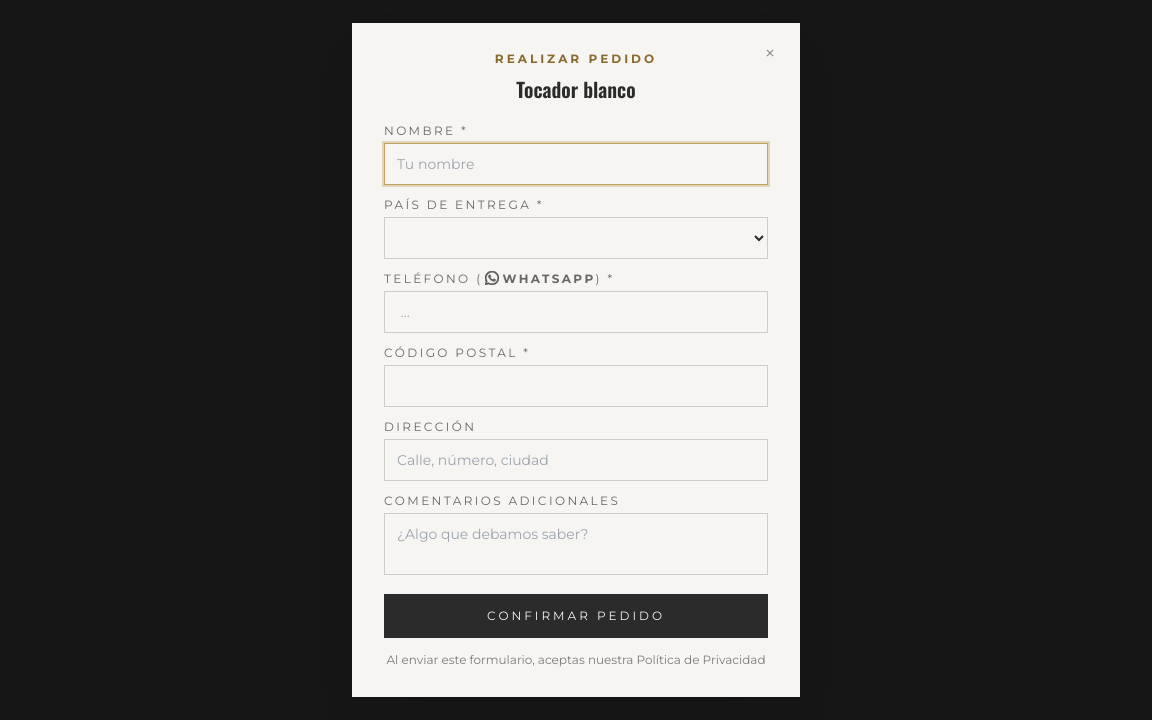
Test: OrderModal — Google Shopping test orders › shows Storebot the success screen but sends no Lead anywhere
This screenshot has width=1152, height=720.
Type "Lucía Pérez" into the field labelled "Nombre *". click: (576, 164)
box: [384, 143, 768, 185]
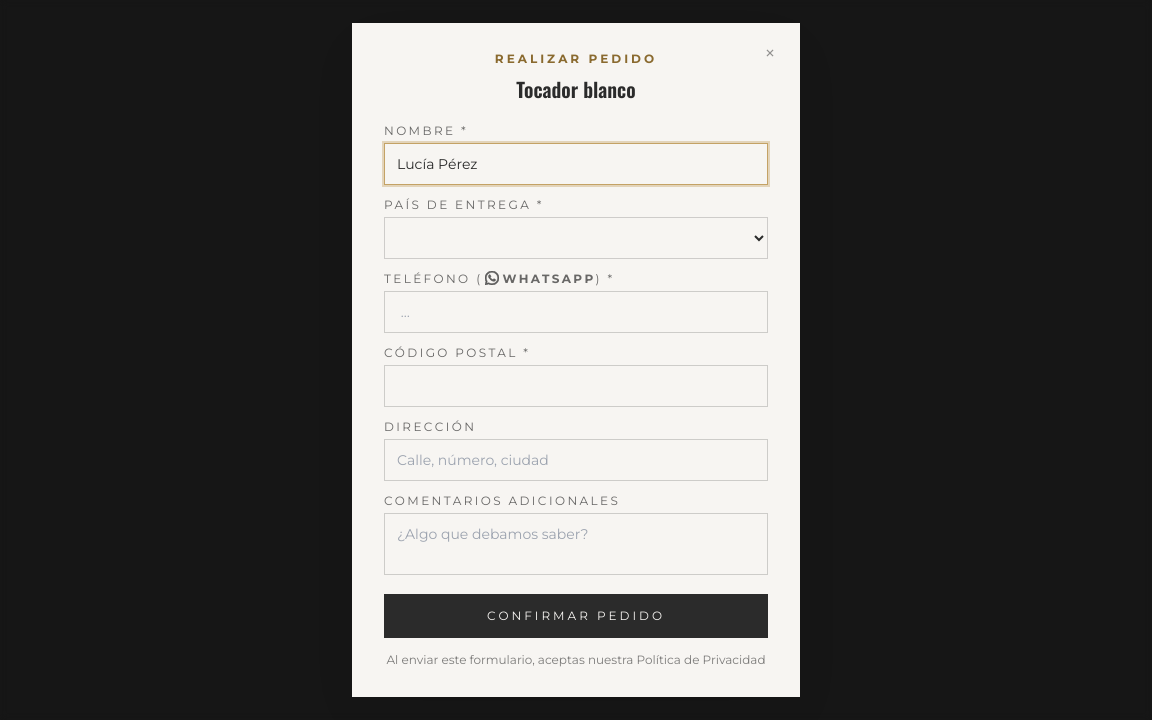
Type "612345678" into the field labelled "Teléfono ( WhatsApp) *". click: (576, 312)
box: [384, 291, 768, 333]
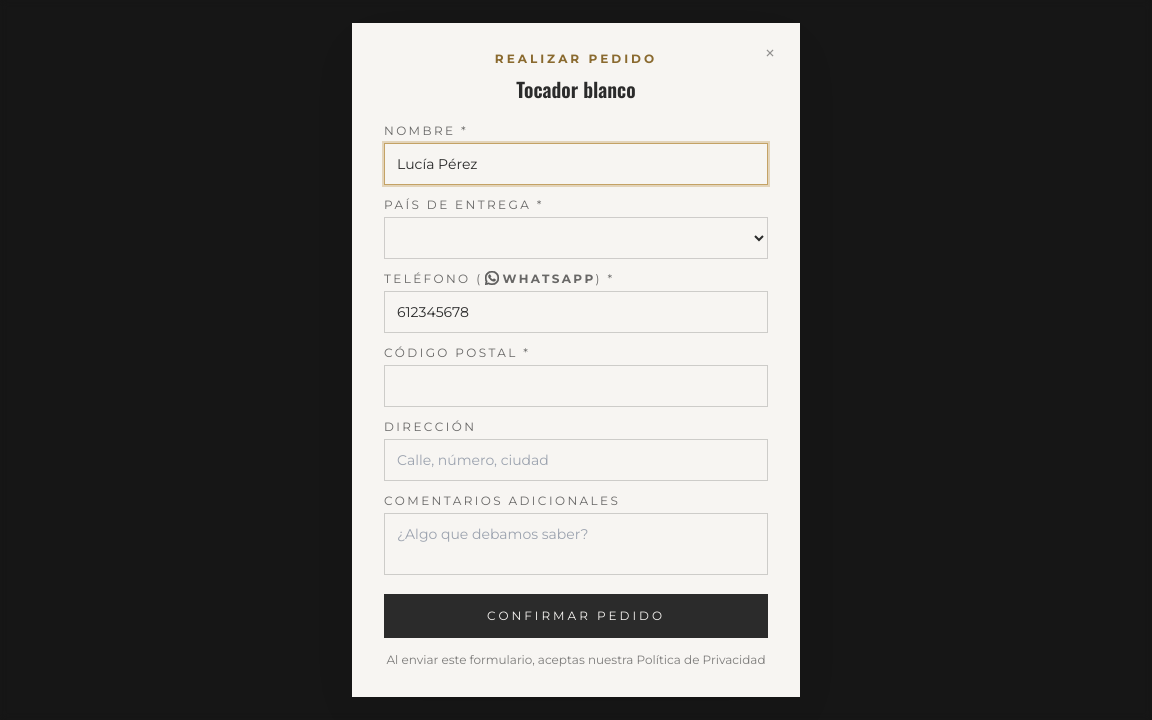
Type "28001" into the field labelled "Código Postal *". click: (576, 386)
box: [384, 365, 768, 407]
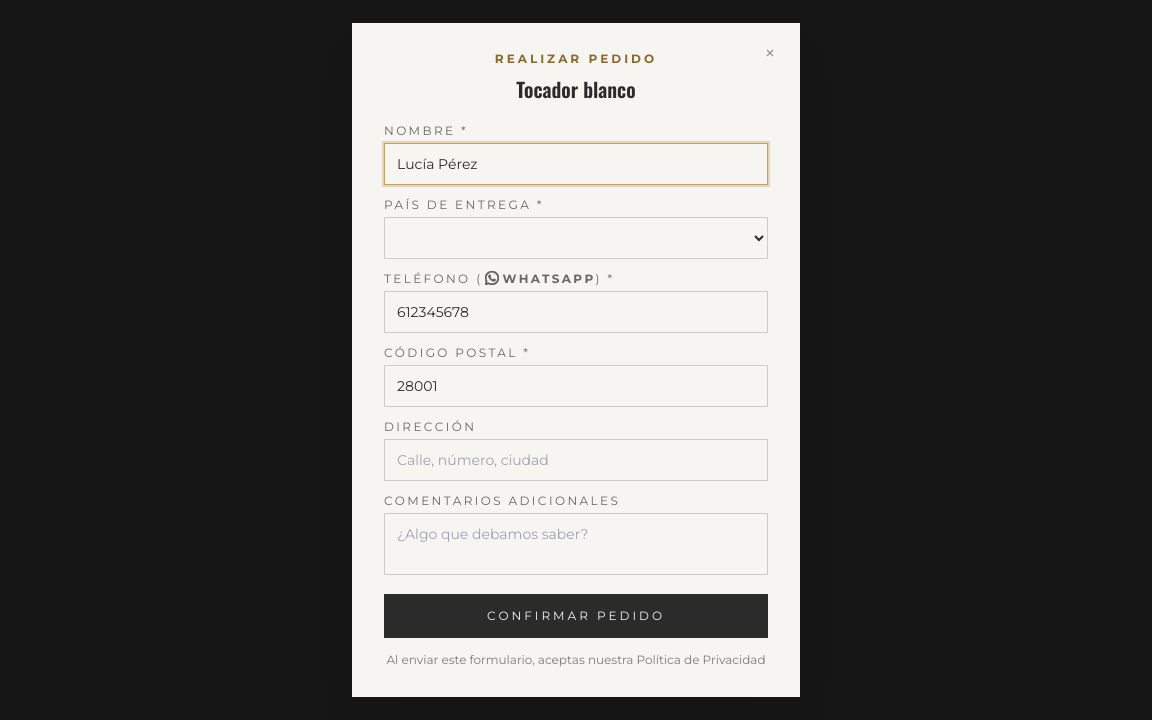
Submit the form, box [384, 123, 768, 669]
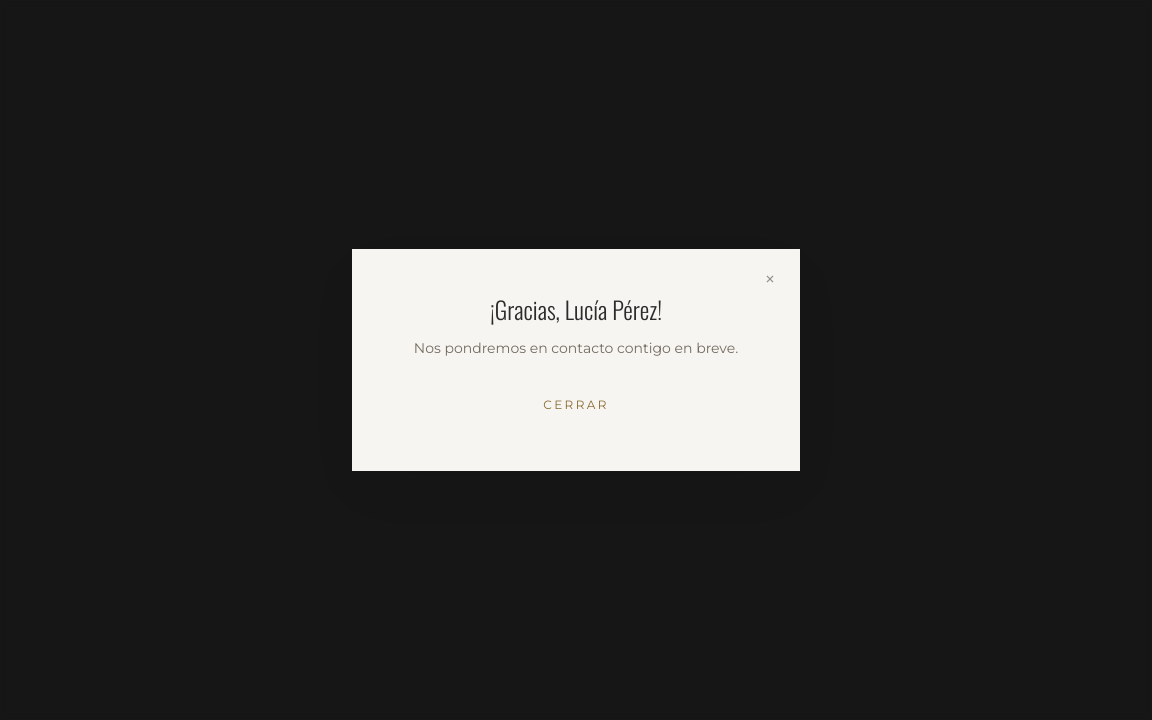
Expected: the form is gone
